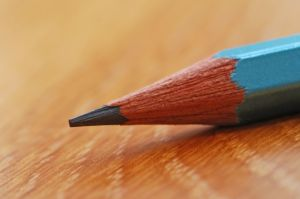pen_tip: (61, 46, 260, 146)
